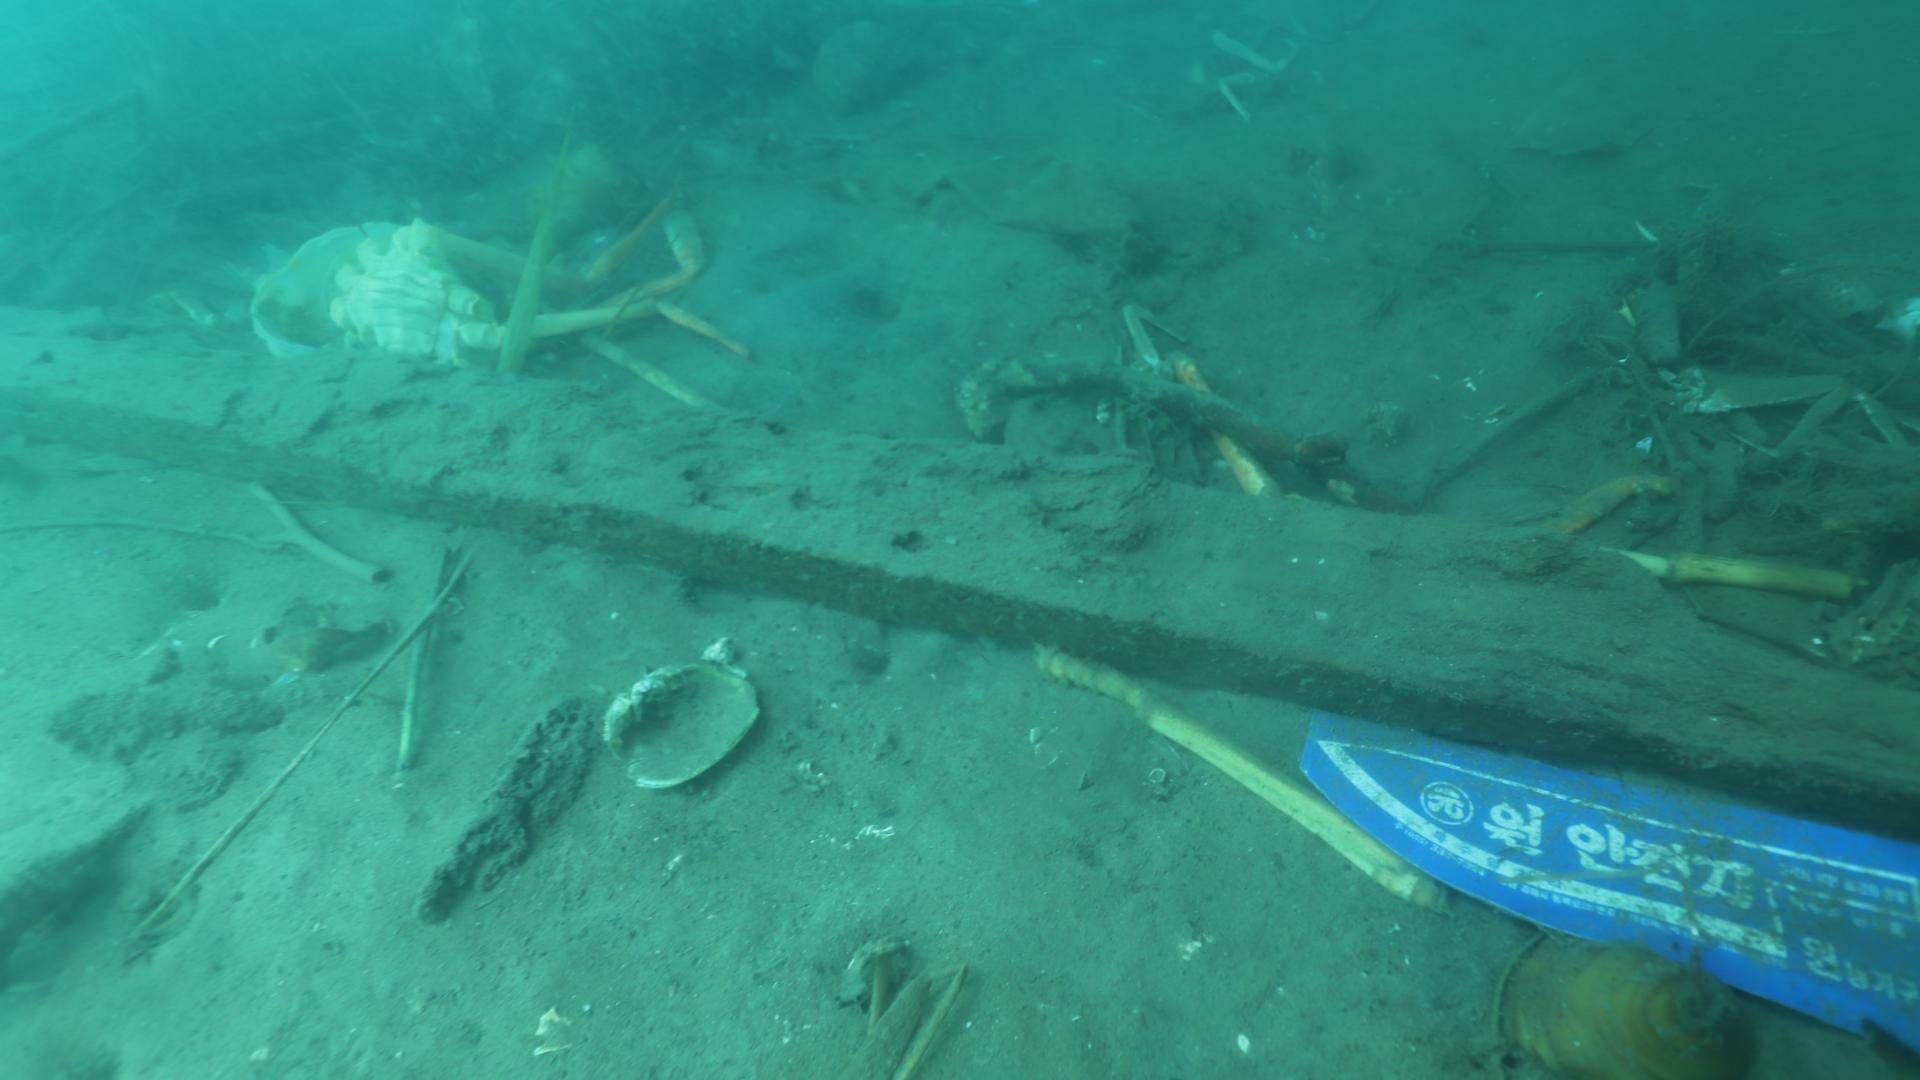wood: (0, 328, 1920, 845)
